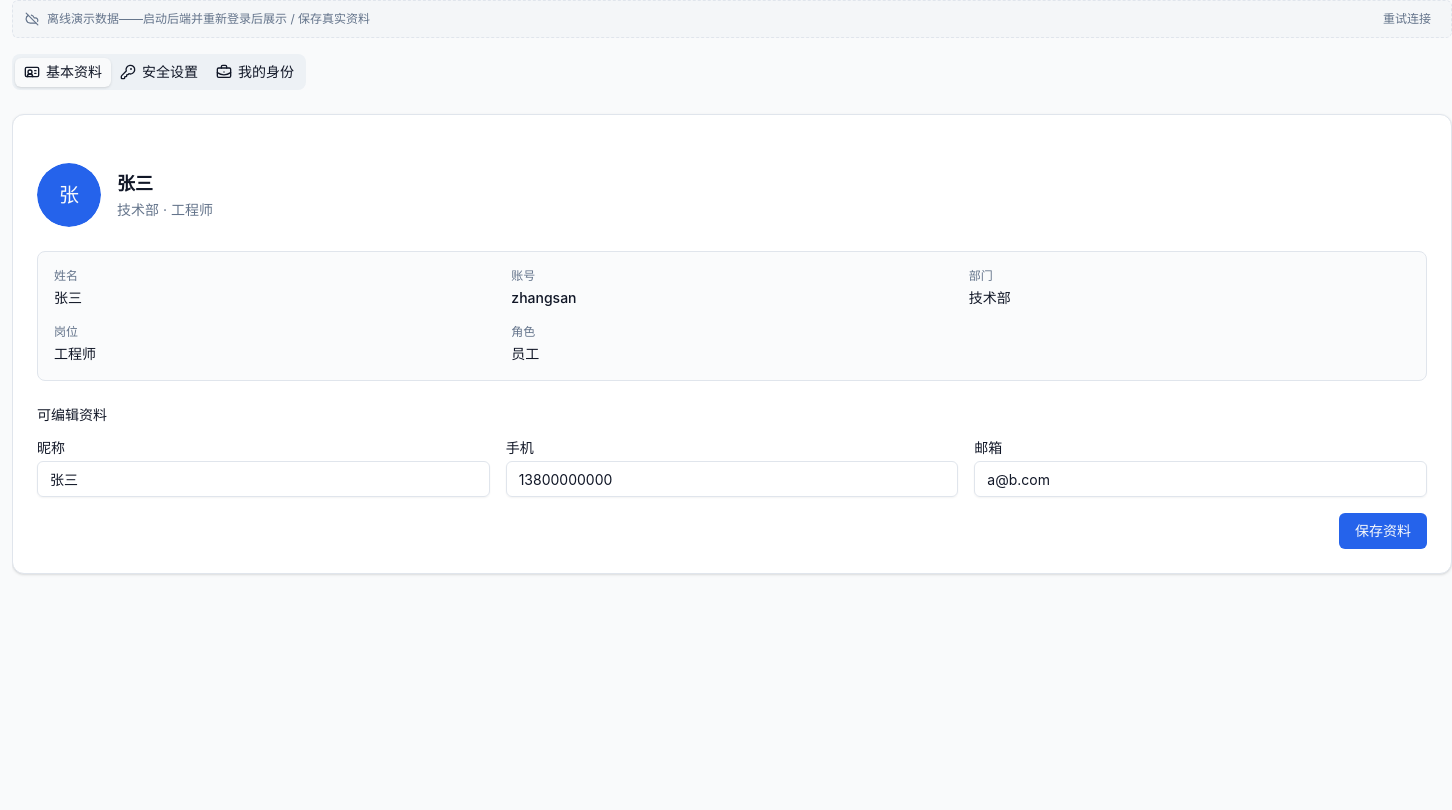
Test: 个人中心 › 改密码校验：新<6 提示、两次不一致提示
The image size is (1452, 810).
Click the tab "安全设置" at (159, 72), box [111, 58, 207, 86]
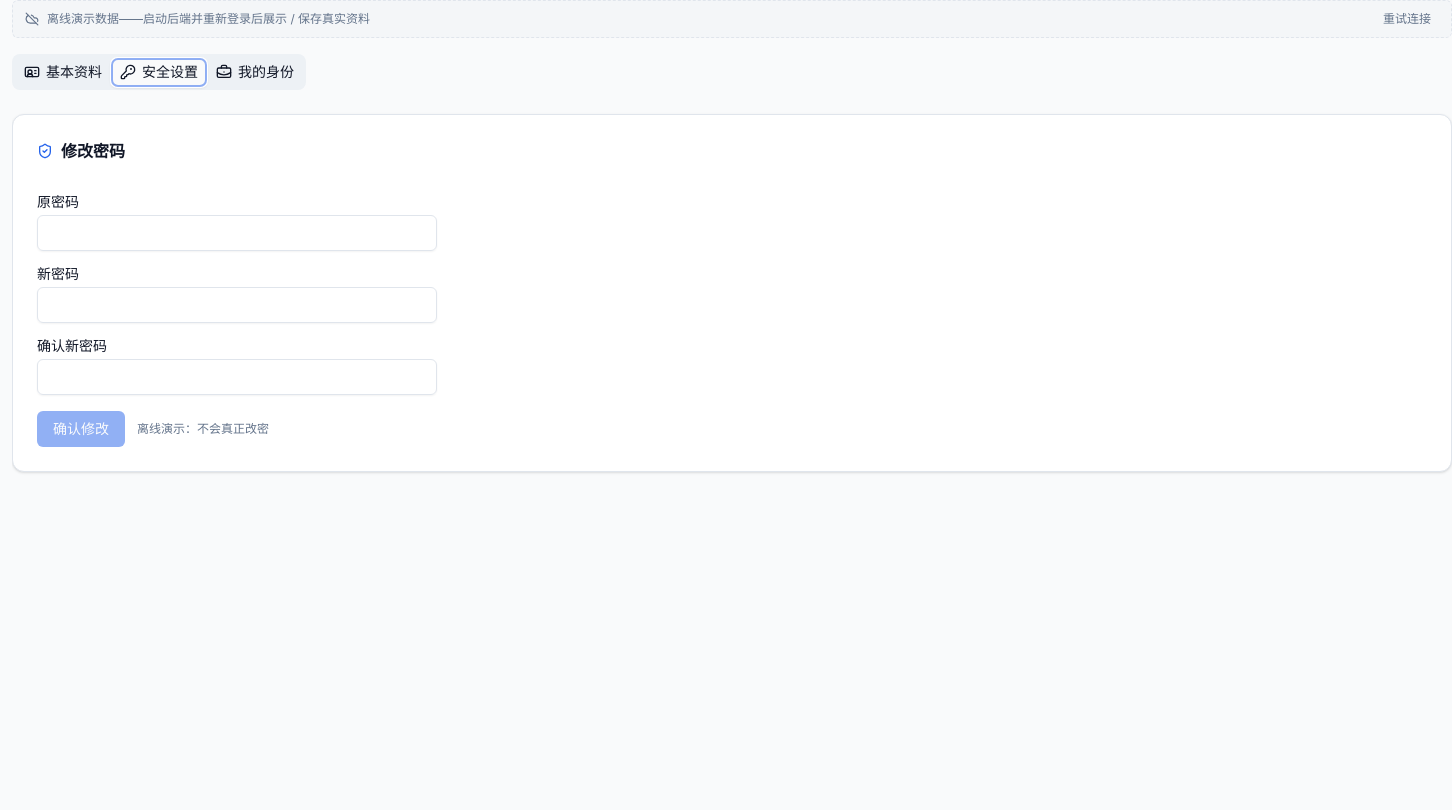
Type "123" into the password field labelled "新密码" at (237, 305), box [37, 287, 437, 323]
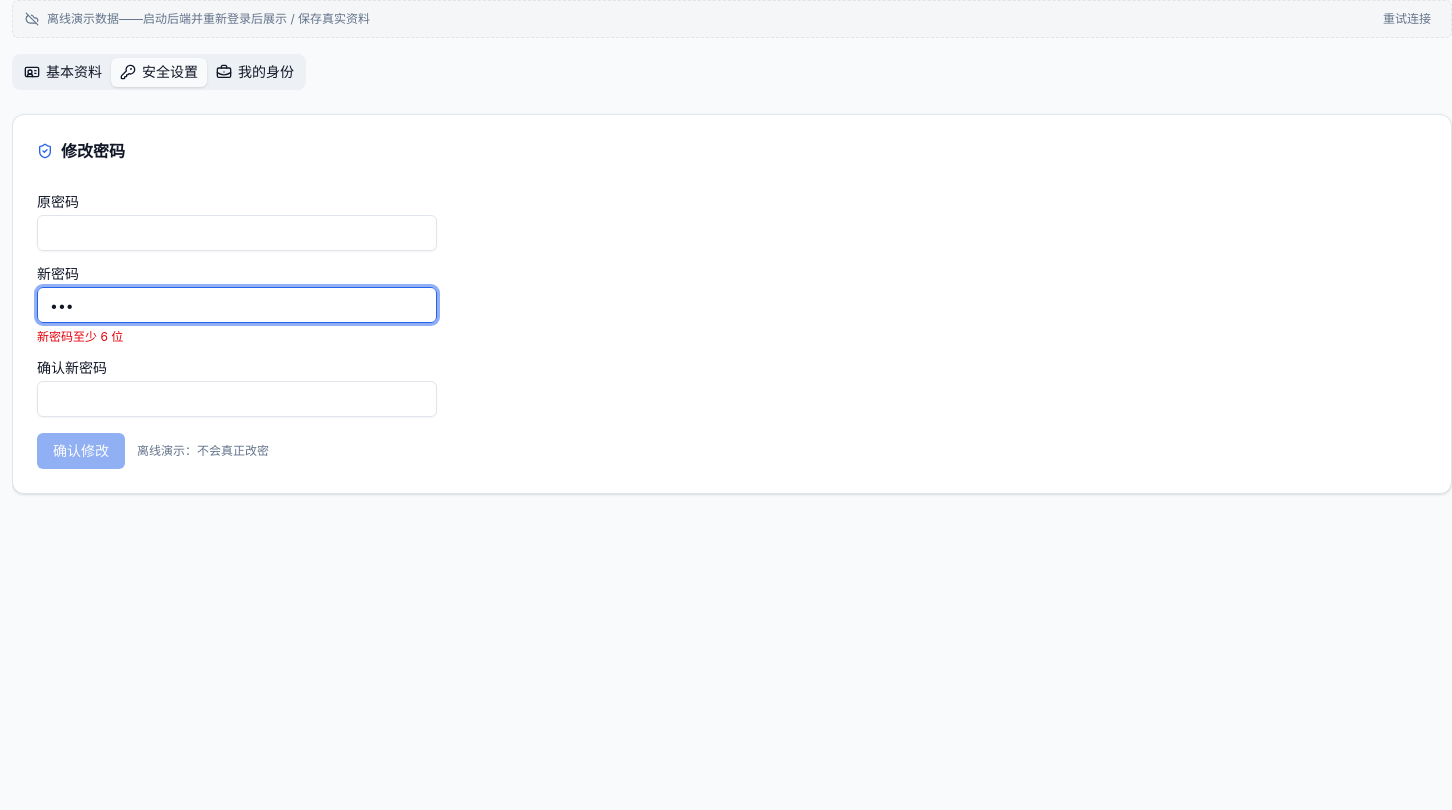
Result: the text "新密码至少 6 位" is shown at [37, 329, 123, 344]
Type "654321" into the password field labelled "确认新密码" at (237, 399), box [37, 381, 437, 417]
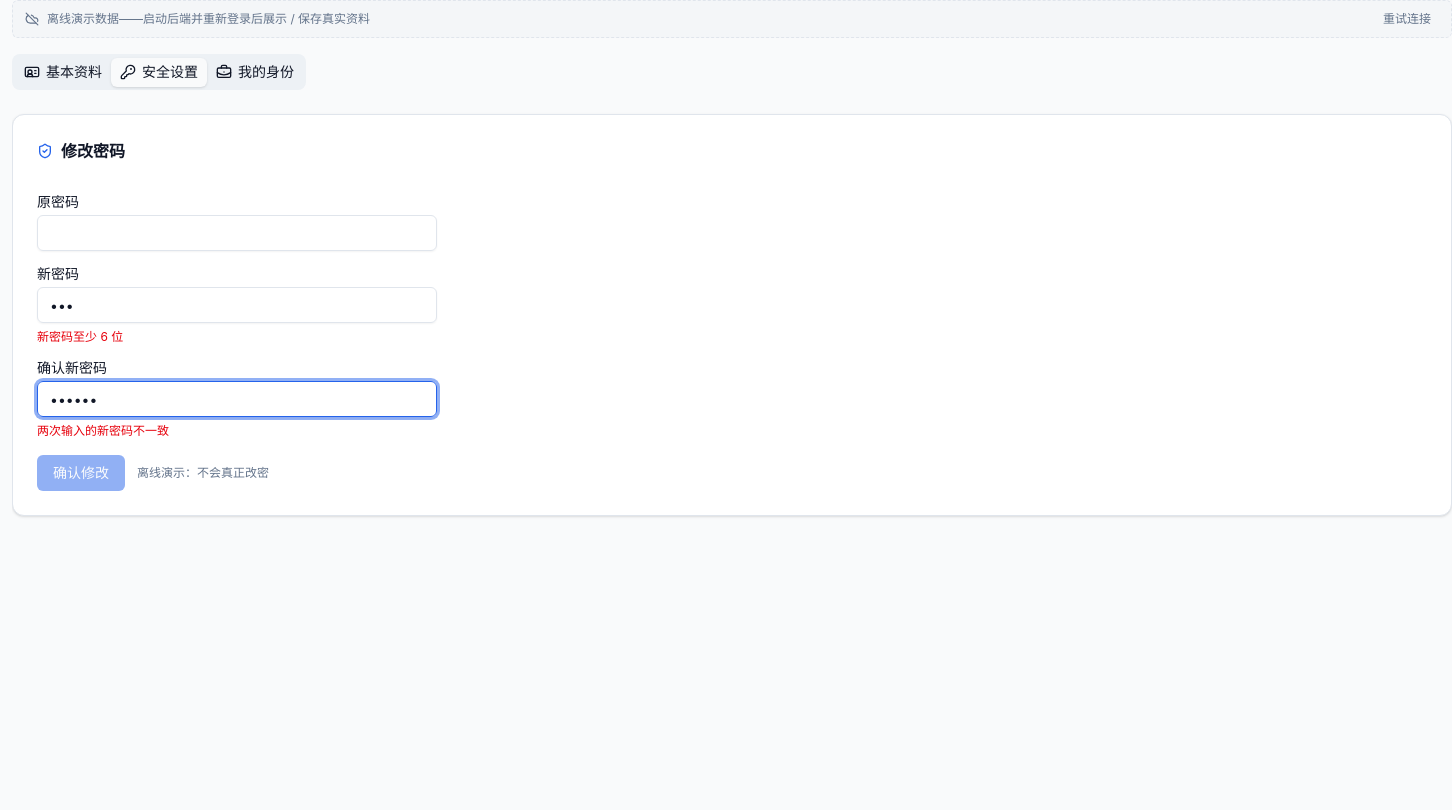
Result: the text "两次输入的新密码不一致" is shown at [37, 423, 169, 438]
